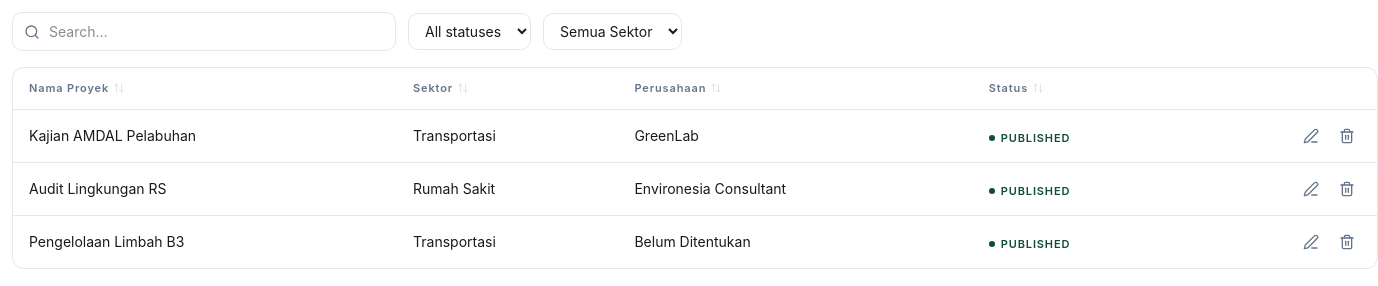
it: DataTable extra filters (Sektor / Perusahaan style) › filters rows by a selected Sektor option without affecting unrelated rows
Select "Rumah Sakit" in the 2nd dropdown showing "Semua Sektor". click: (612, 32)
box: [543,13,682,50]
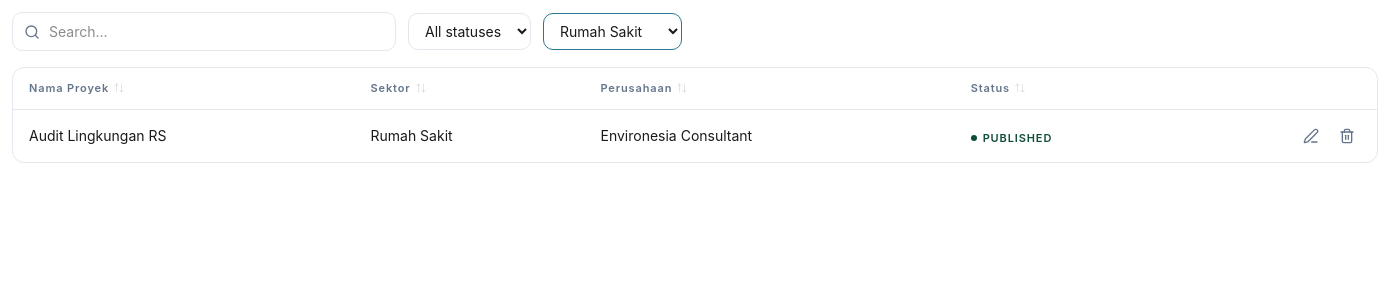
Expected: the text "Audit Lingkungan RS" is shown, [13,109,354,162]
Now the text "Kajian AMDAL Pelabuhan" is gone
Now the text "Pengelolaan Limbah B3" is gone
